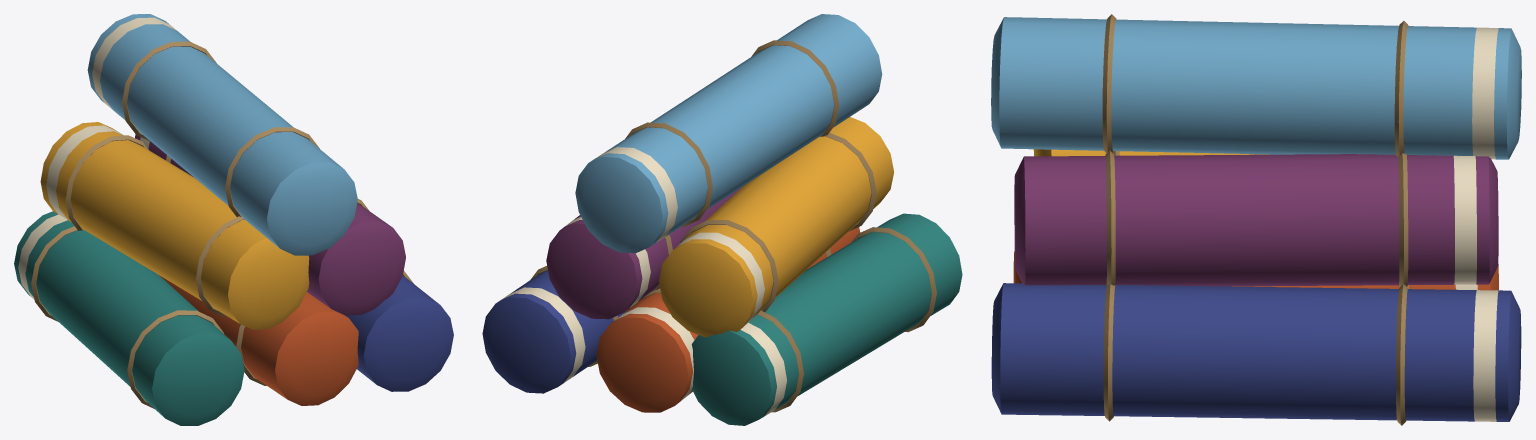
The model's file is deco_bundle_fabric_bolts.fbx.
3 views of the same model, side by side, from view 1: azimuth 30°, elevation 25°; view 2: azimuth 150°, elevation 25°; view 3: azimuth 270°, elevation 25° (orthographic). The views are drawn at different scales.
Parts seen in each view (by area): view 1: Bundle_FabricBolts_Bolt6, Bundle_FabricBolts_Bolt4, Bundle_FabricBolts_Bolt1, Bundle_FabricBolts_Bolt2, Bundle_FabricBolts_Bolt3, Bundle_FabricBolts_Bolt5; view 2: Bundle_FabricBolts_Bolt6, Bundle_FabricBolts_Bolt1, Bundle_FabricBolts_Bolt4, Bundle_FabricBolts_Bolt3, Bundle_FabricBolts_Bolt2, Bundle_FabricBolts_Bolt5; view 3: Bundle_FabricBolts_Bolt3, Bundle_FabricBolts_Bolt6, Bundle_FabricBolts_Bolt5, Bundle_FabricBolts_Bolt2, Bundle_FabricBolts_Bolt4.
Part boxes in pixels (box(x1,y1,x2,y2)): Bundle_FabricBolts_Bolt6: box(87, 14, 357, 255); Bundle_FabricBolts_Bolt4: box(40, 122, 309, 329); Bundle_FabricBolts_Bolt1: box(14, 211, 244, 425); Bundle_FabricBolts_Bolt2: box(159, 275, 358, 405); Bundle_FabricBolts_Bolt3: box(345, 271, 453, 391); Bundle_FabricBolts_Bolt5: box(135, 134, 405, 315); Bundle_FabricBolts_Bolt6: box(575, 14, 882, 253); Bundle_FabricBolts_Bolt1: box(691, 213, 962, 425); Bundle_FabricBolts_Bolt4: box(659, 117, 893, 337); Bundle_FabricBolts_Bolt3: box(482, 266, 628, 393); Bundle_FabricBolts_Bolt2: box(596, 227, 860, 412); Bundle_FabricBolts_Bolt5: box(546, 186, 742, 319); Bundle_FabricBolts_Bolt3: box(991, 283, 1521, 425); Bundle_FabricBolts_Bolt6: box(991, 14, 1521, 159); Bundle_FabricBolts_Bolt5: box(1014, 150, 1498, 286); Bundle_FabricBolts_Bolt2: box(1013, 250, 1498, 290); Bundle_FabricBolts_Bolt4: box(1033, 149, 1268, 156).
Bounding box in the file's own units: 120 × 101 × 145.
